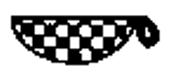Basket: (4, 9, 168, 69)
